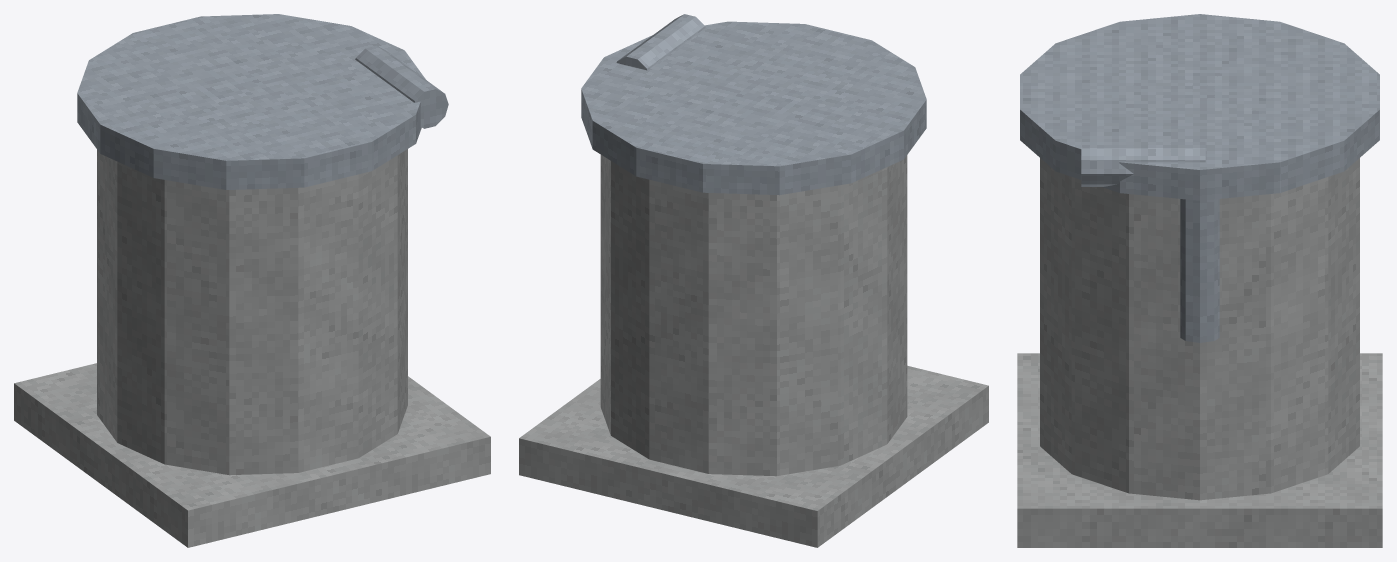
Rendered from level_blockout_lighthouse_cistern.glb.
3 views of the same model, side by side, from view 1: azimuth 30°, elevation 25°; view 2: azimuth 150°, elevation 25°; view 3: azimuth 270°, elevation 25° (orthographic). The views are drawn at different scales.
Visible parts, largest first — view 1: level_blockout_lighthouse_cistern; view 2: level_blockout_lighthouse_cistern; view 3: level_blockout_lighthouse_cistern.
Part boxes in pixels (<box>): level_blockout_lighthouse_cistern: <box>14,14,490,547</box>; level_blockout_lighthouse_cistern: <box>519,14,988,547</box>; level_blockout_lighthouse_cistern: <box>1017,14,1382,547</box>.
Bounding box in the file's own units: 1.96 × 2.27 × 1.94.
Materials: 2 (2 with a texture image).
